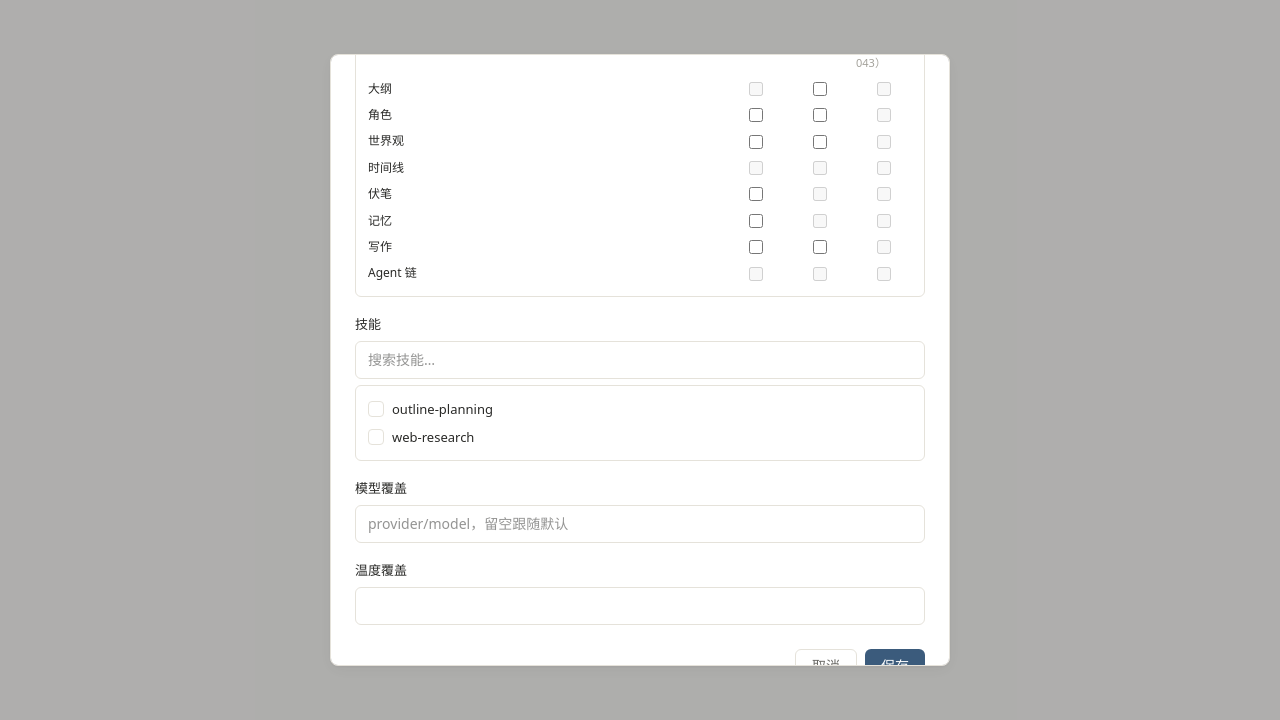
AgentEditDialog — 创建模式（非工具契约迁移【G】） › skill 绑定：搜索输入过滤列表
(page scrolled)
In the field with test id "agent-skill-search": (640, 360) [355,341,925,379], type "web"
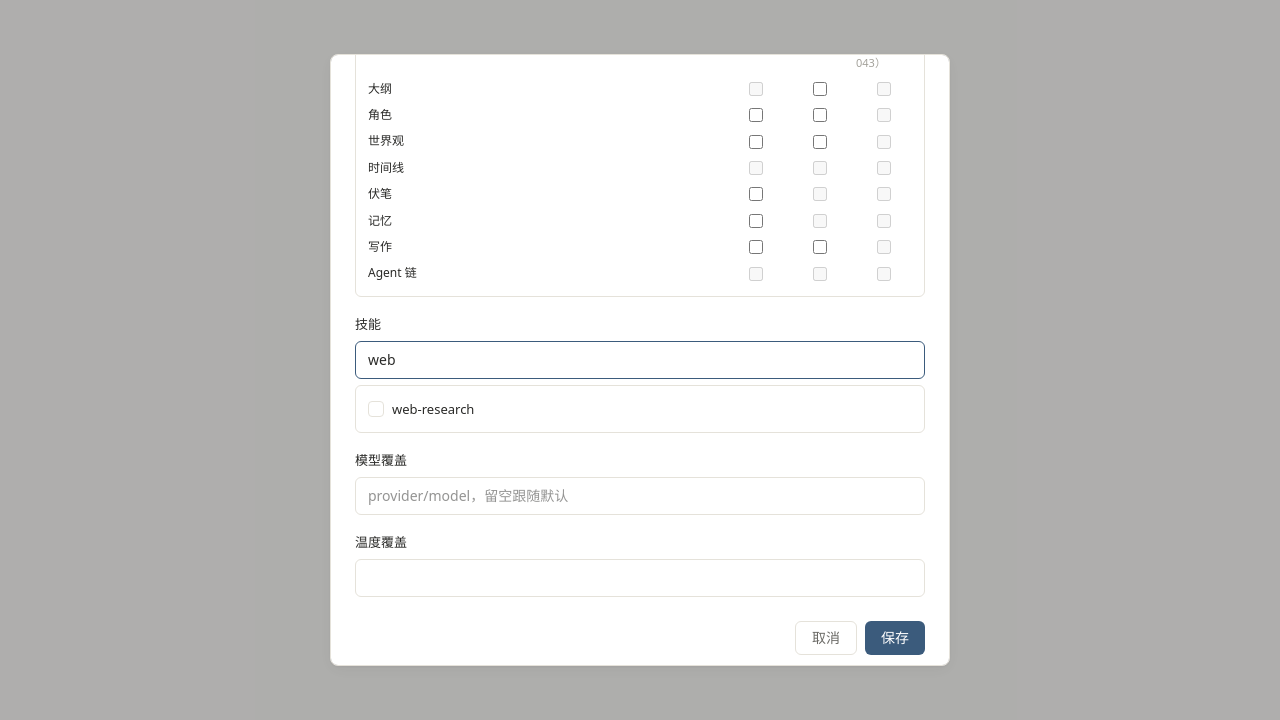
Check: the checkbox with test id "agent-skill-3" is shown, box [368,400,474,418]
Check: the checkbox with test id "agent-skill-1" is gone
